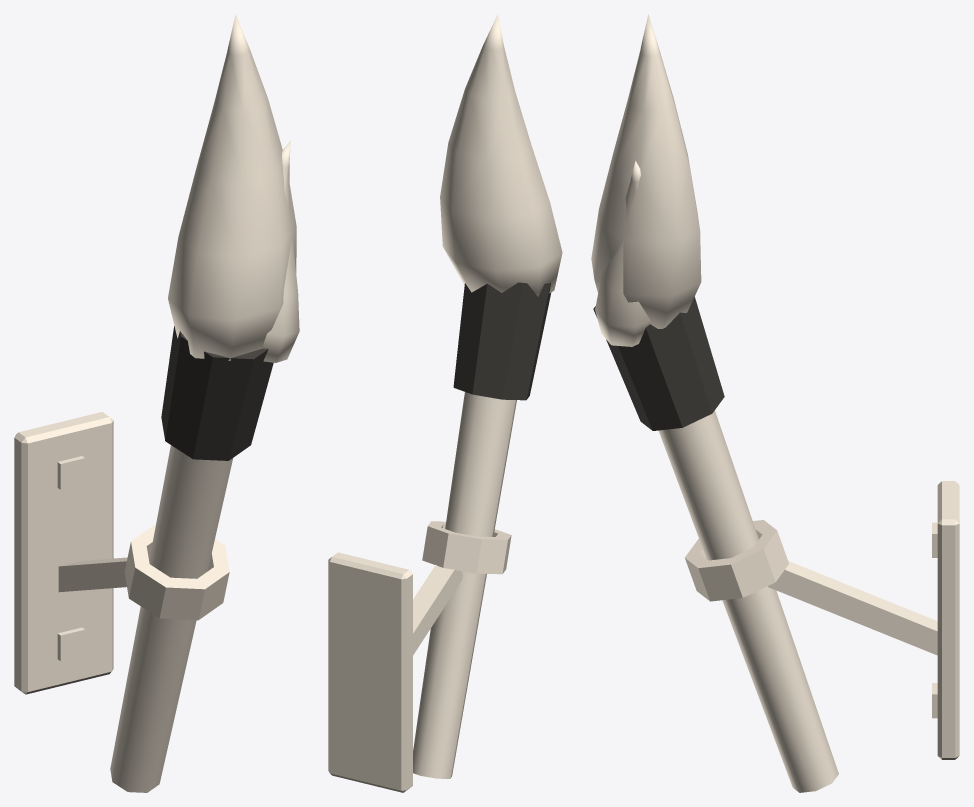
Rendered from SM_VKI_Prop_Torch_Wall.fbx.
3 renders of one model, left to right at view 1: azimuth 30°, elevation 25°; view 2: azimuth 150°, elevation 25°; view 3: azimuth 270°, elevation 25°, orthographic. The views are drawn at different scales.
Parts seen in each view (by area): view 1: SM_VKI_Prop_Torch_Wall.001; view 2: SM_VKI_Prop_Torch_Wall.001; view 3: SM_VKI_Prop_Torch_Wall.001.
Part boxes in pixels (x1,y1,x2,y2): SM_VKI_Prop_Torch_Wall.001: (14,14,299,792); SM_VKI_Prop_Torch_Wall.001: (328,14,562,792); SM_VKI_Prop_Torch_Wall.001: (591,14,959,792).
Size of the model in its own units: 0.113 by 0.7771 by 0.3331.
